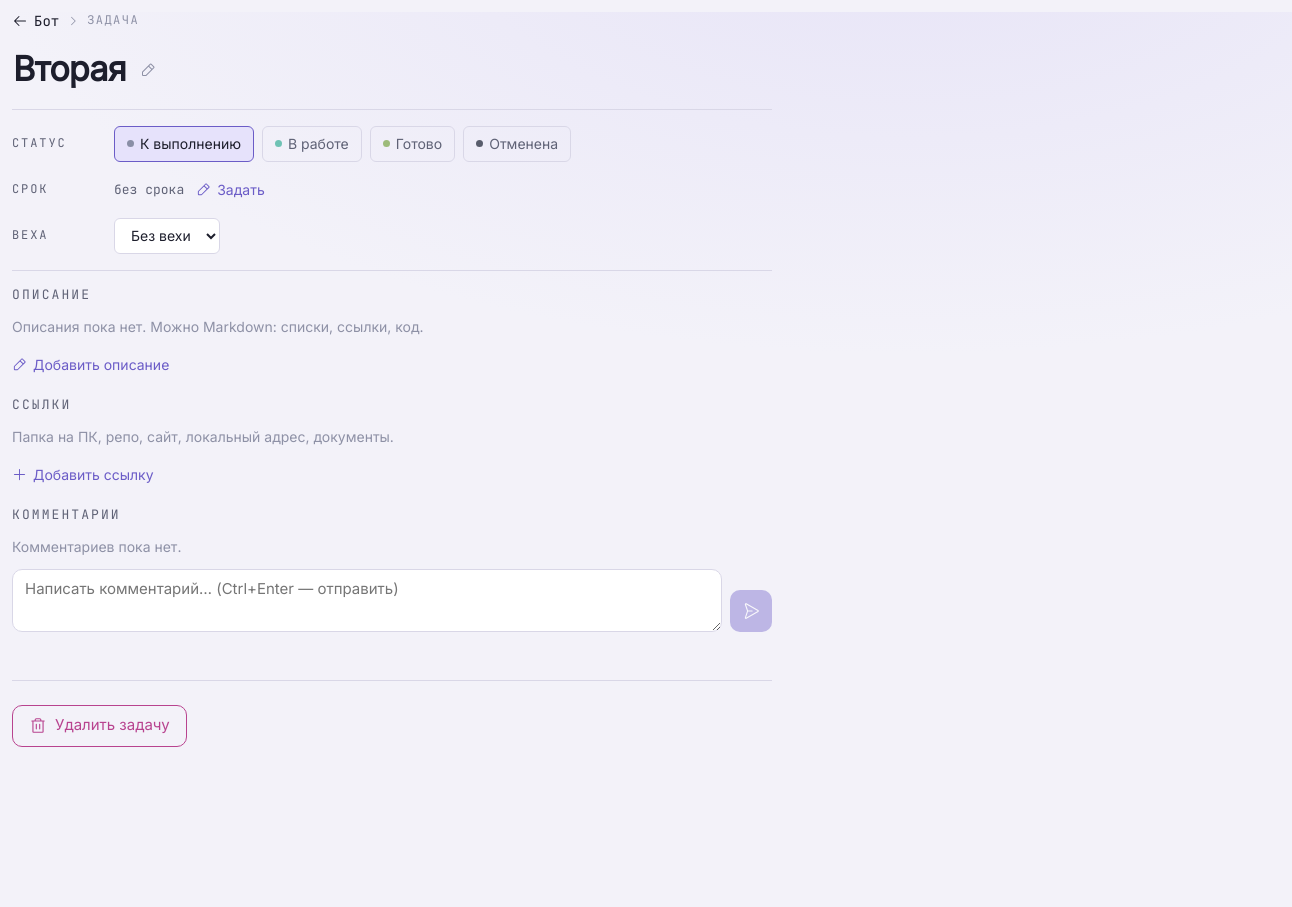
Test: страница задачи › удалить задачу: подтверждение, taskRemove, переход в карточку проекта
Click the button "Удалить задачу" at (99, 726), box [12,705,187,747]
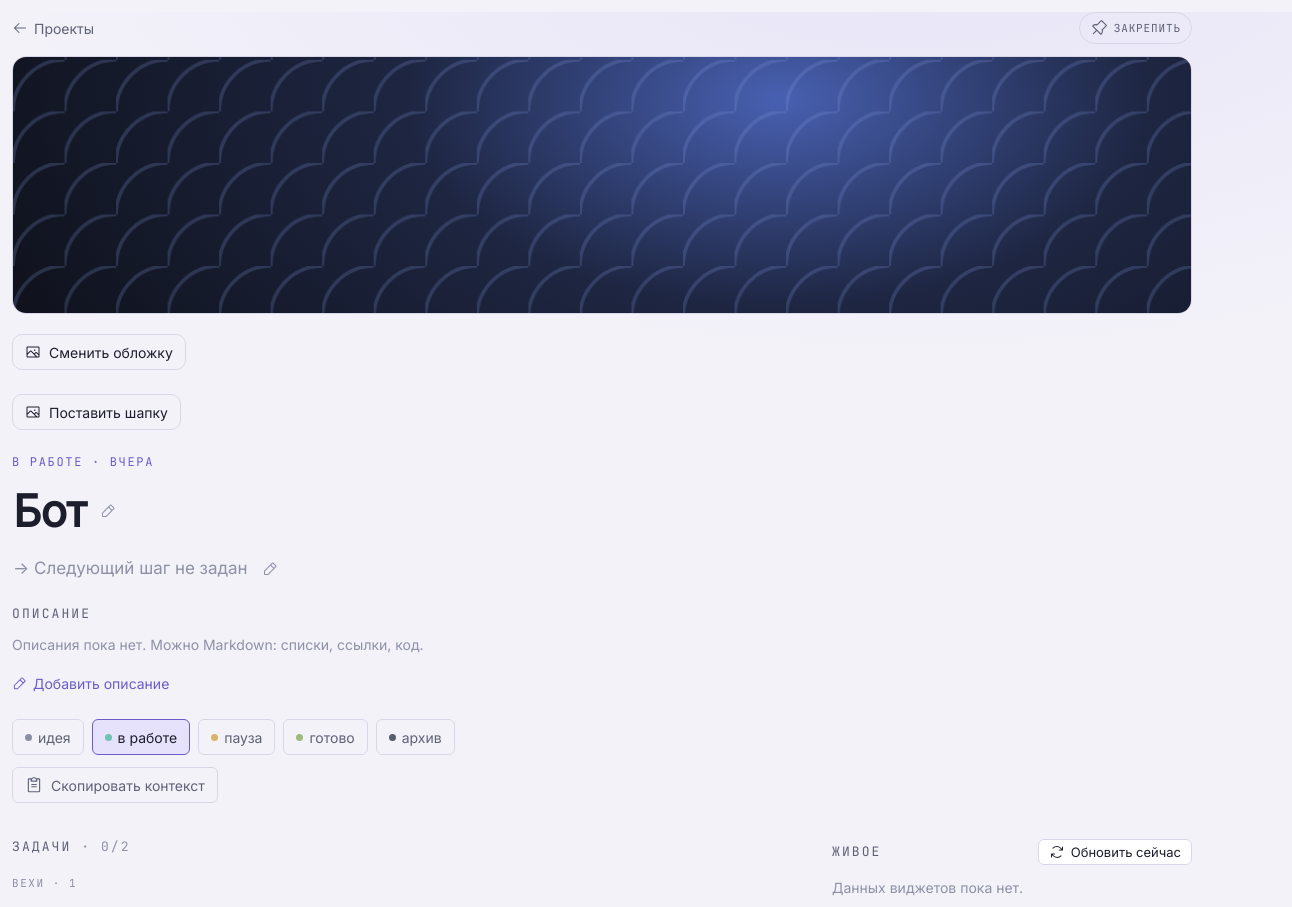
Check: the heading "Бот" is shown, box [13,484,122,538]
